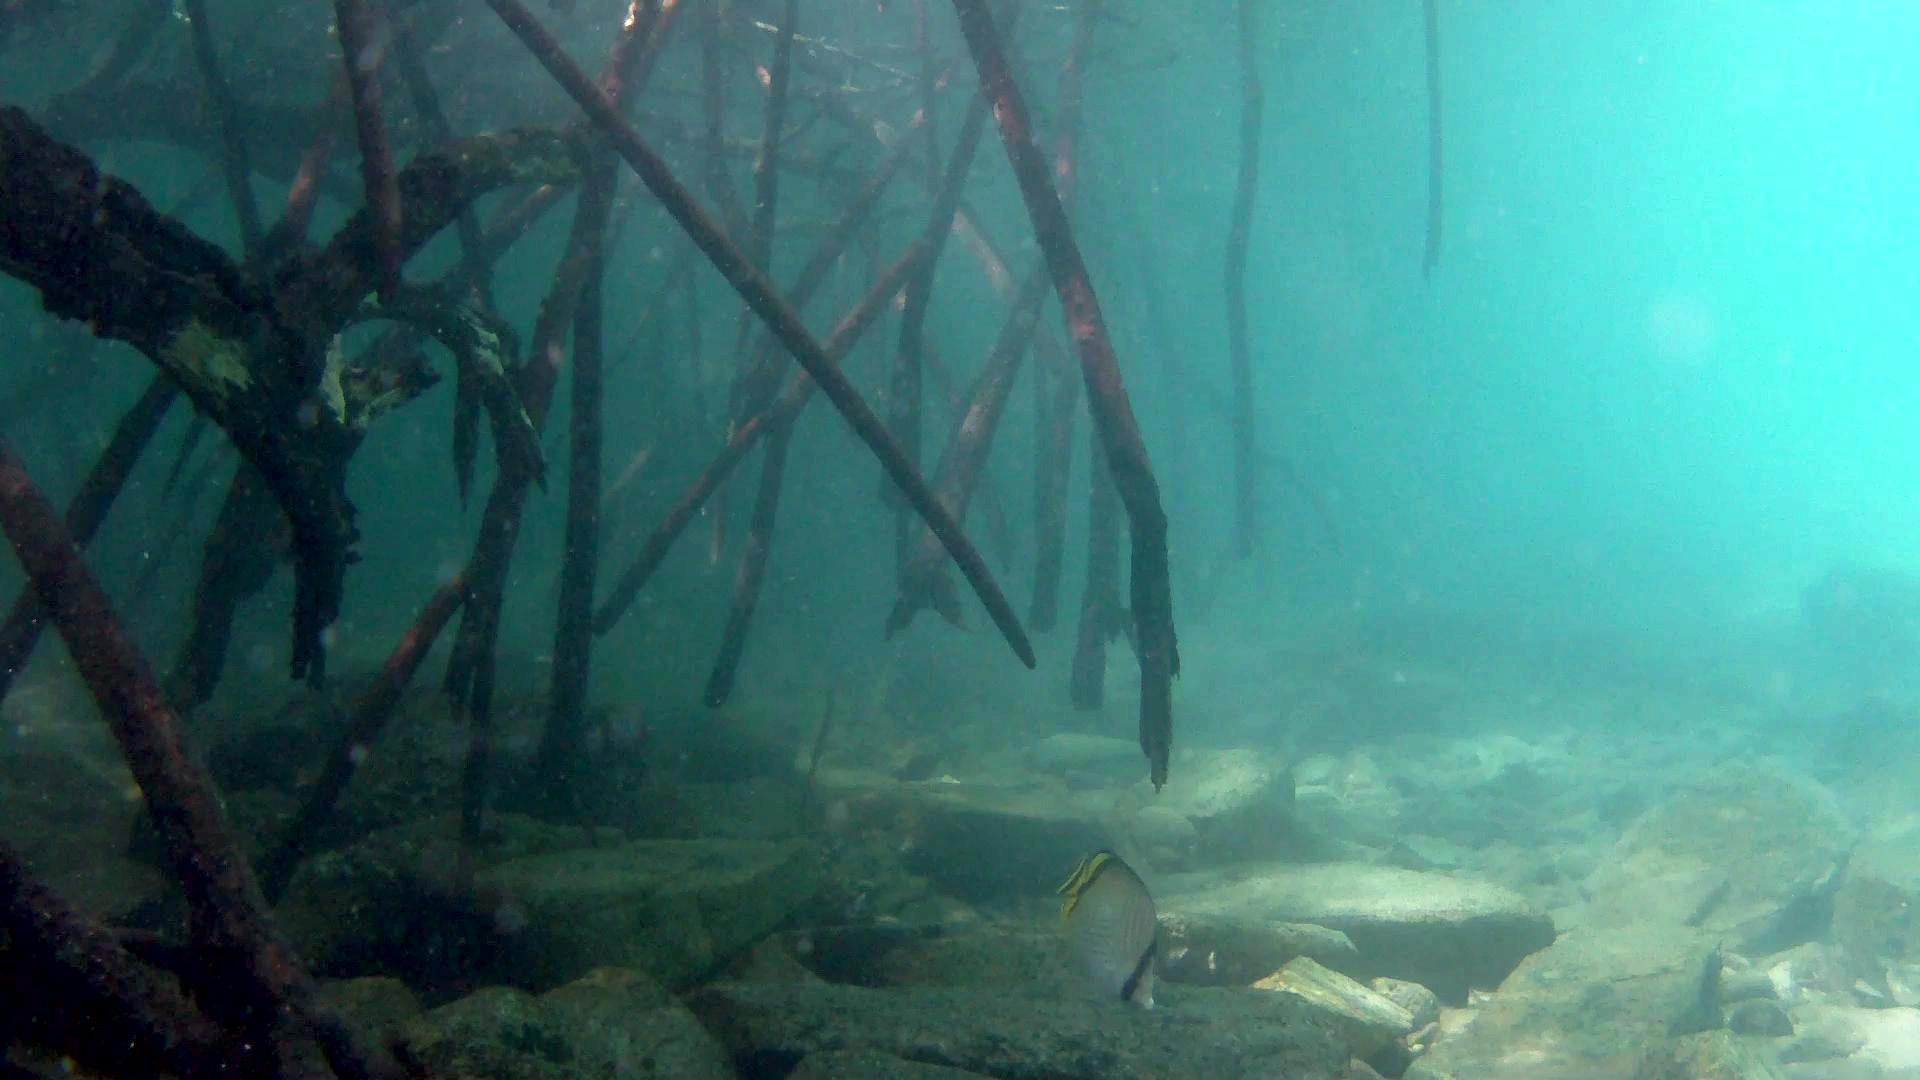chaetodon vagabundus: (1055, 846, 1163, 1015)
